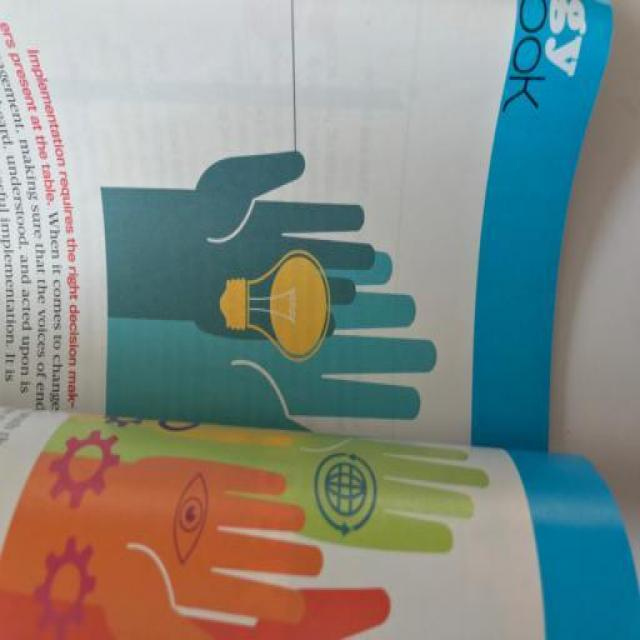paper: (1, 1, 616, 636)
